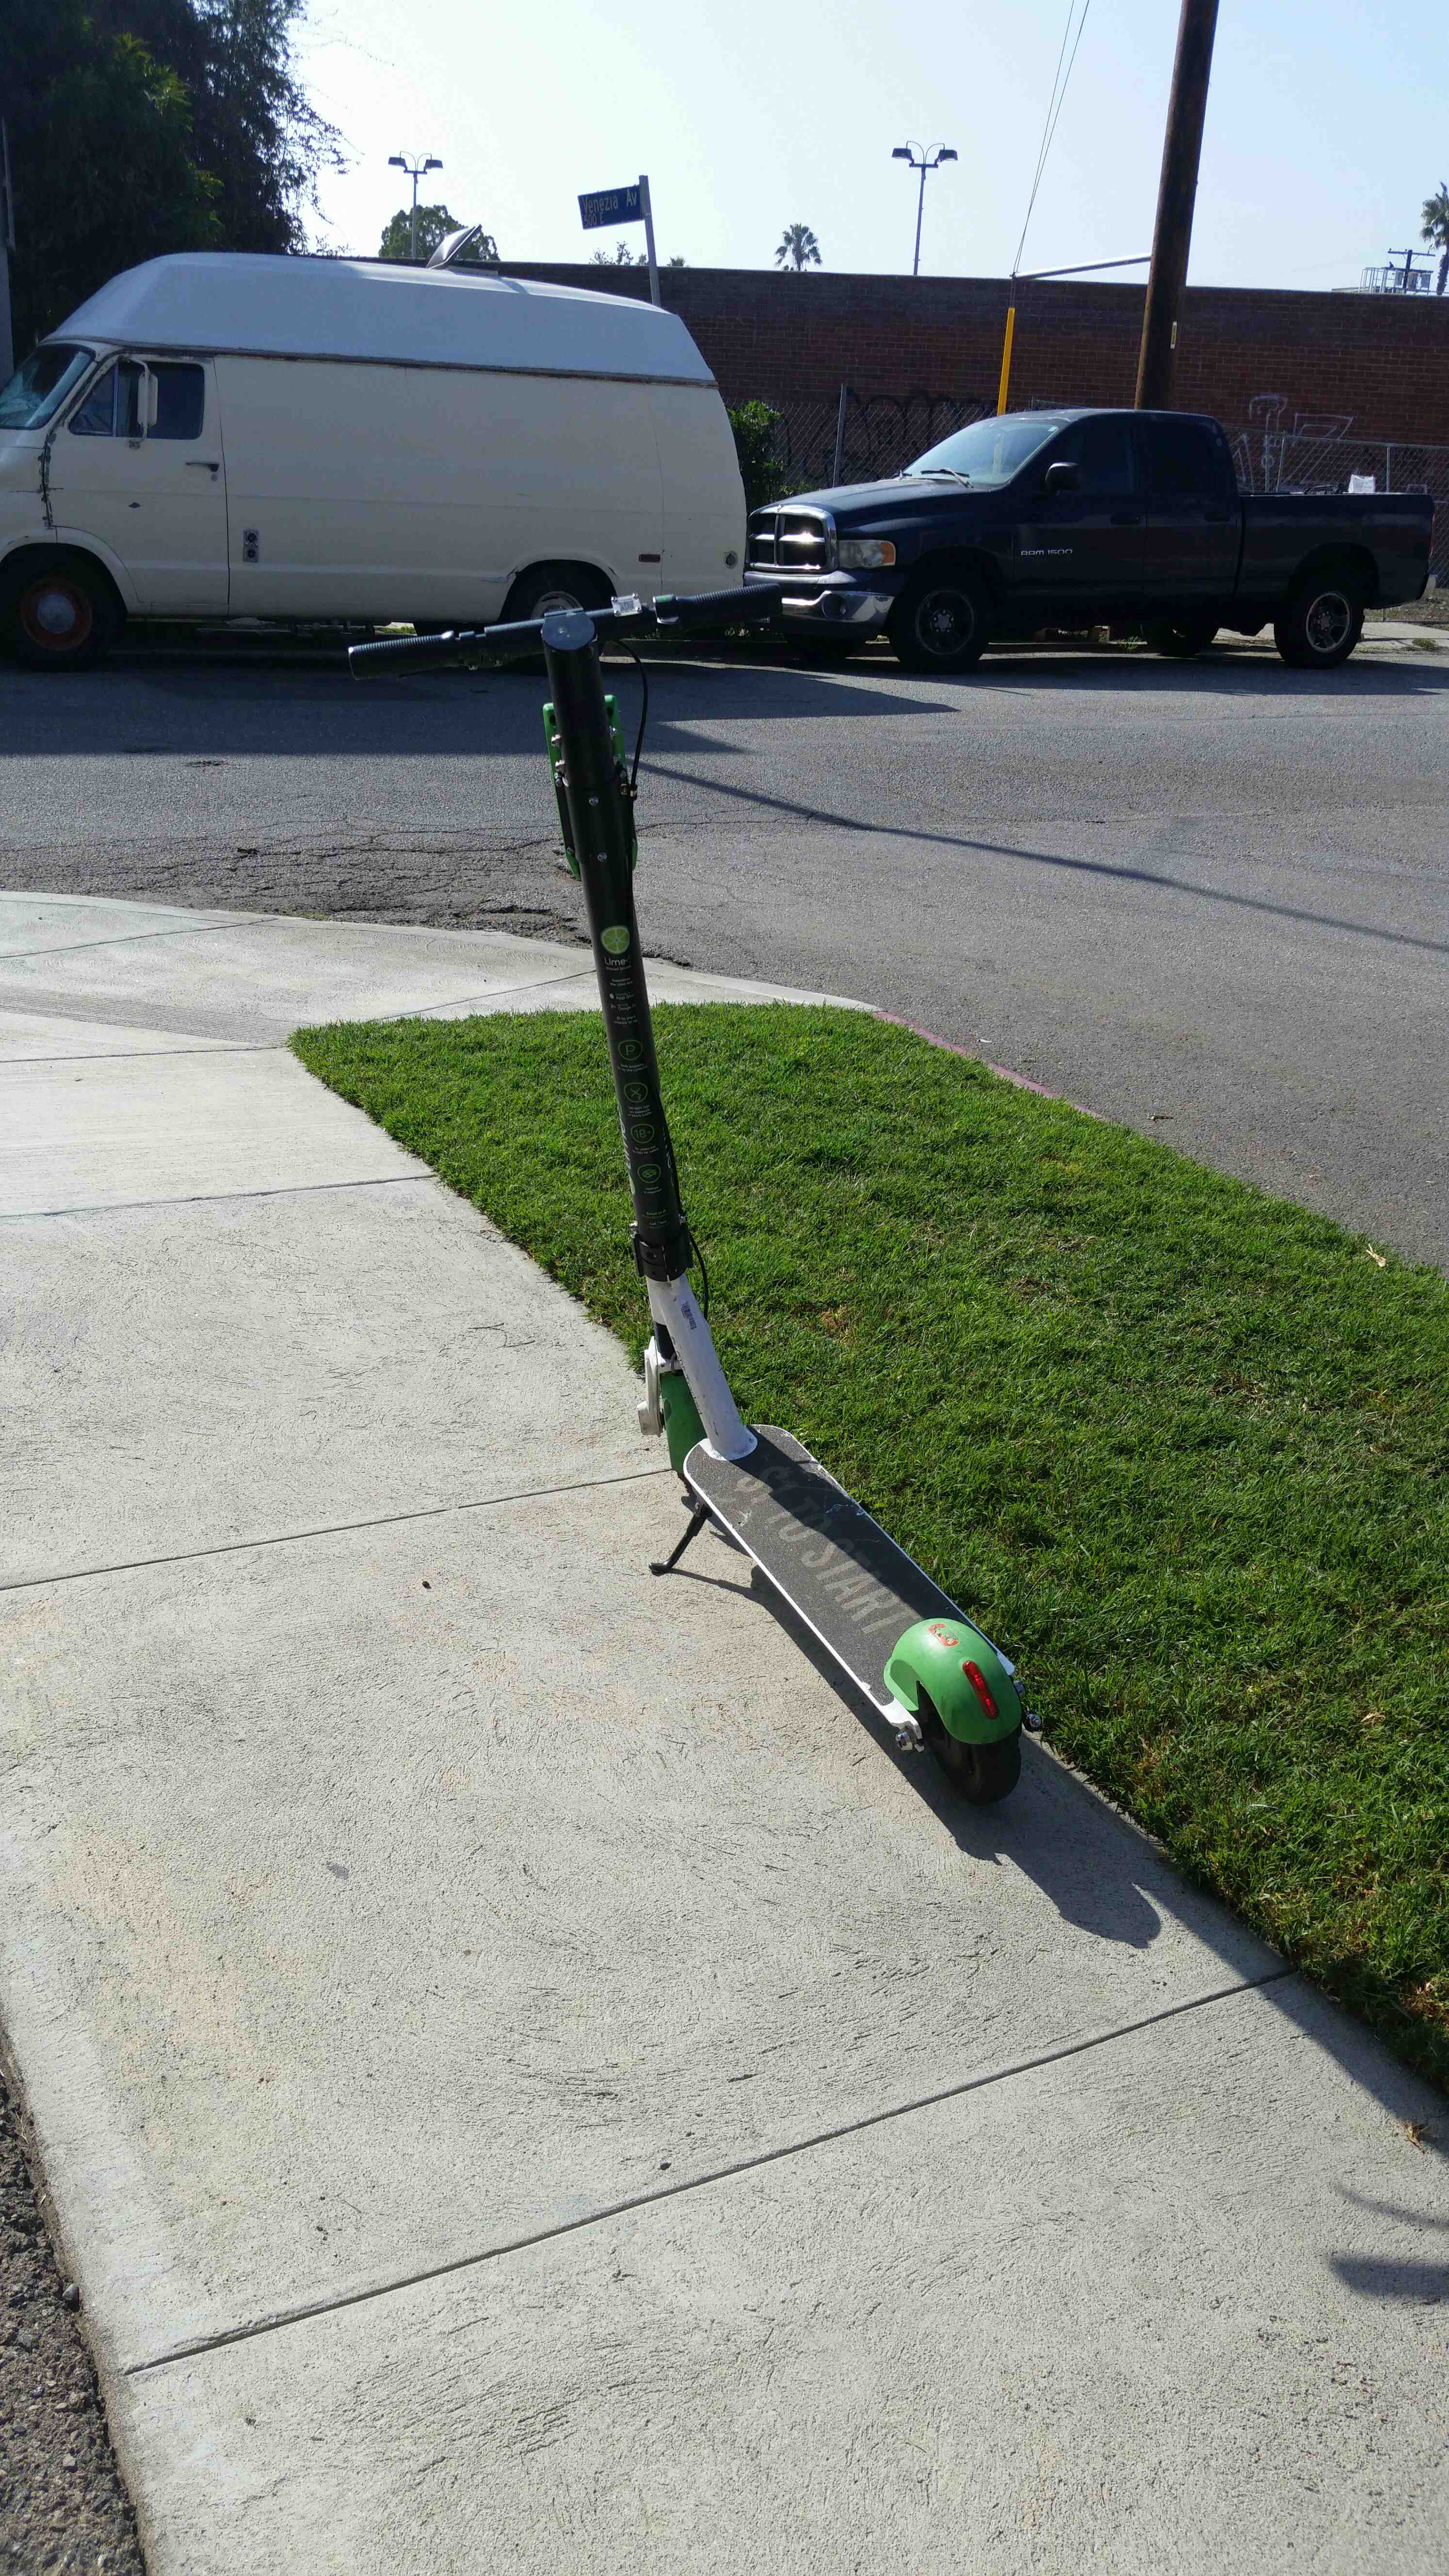scooter: (274, 568, 1102, 1854)
